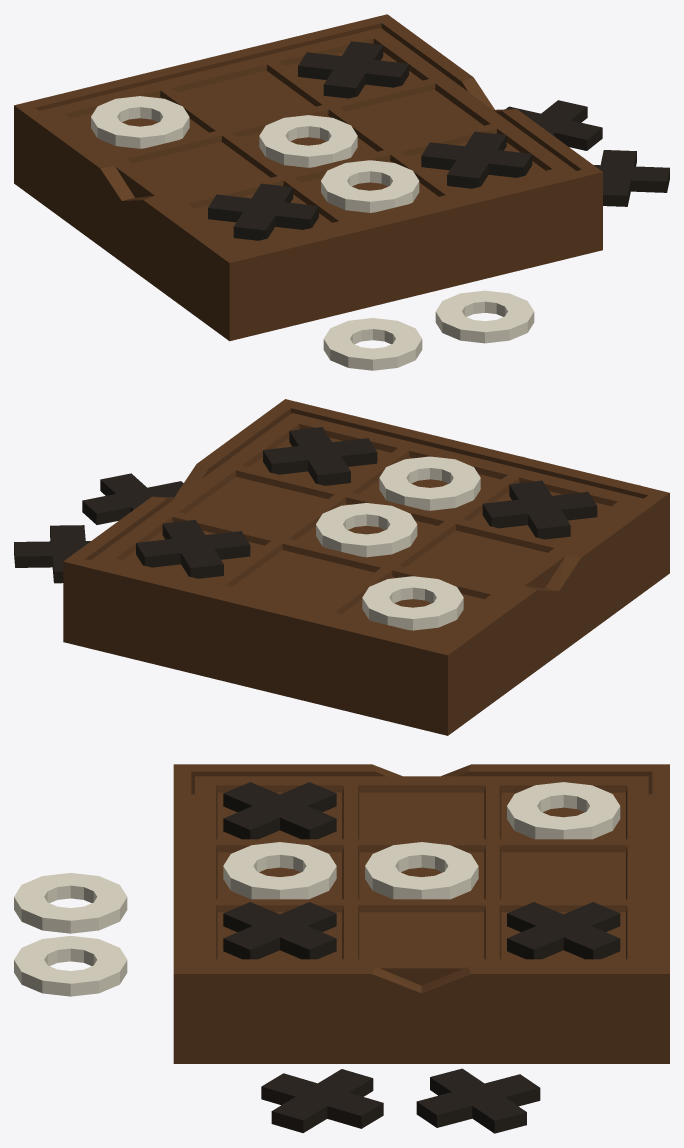
3 renders of one model, top to bottom at view 1: azimuth 30°, elevation 25°; view 2: azimuth 150°, elevation 25°; view 3: azimuth 270°, elevation 25°, orthographic. The views are drawn at different scales.
Visible parts, largest first — view 1: 01_Hollow_storage_base, 02_Removable_3x3_recess_board, O04_Ring_token, O05_Ring_token, O02_Ring_token, O03_Ring_token, O01_Ring_token, X01_Solid_cross_token, X03_Solid_cross_token, X02_Solid_cross_token, X04_Solid_cross_token, X05_Solid_cross_token; view 2: 01_Hollow_storage_base, 02_Removable_3x3_recess_board, O01_Ring_token, O03_Ring_token, O02_Ring_token, X02_Solid_cross_token, X03_Solid_cross_token, X01_Solid_cross_token, X04_Solid_cross_token, X05_Solid_cross_token; view 3: 01_Hollow_storage_base, 02_Removable_3x3_recess_board, X04_Solid_cross_token, X05_Solid_cross_token, X03_Solid_cross_token, X01_Solid_cross_token, X02_Solid_cross_token, O05_Ring_token, O04_Ring_token, O03_Ring_token, O02_Ring_token, O01_Ring_token.
Part boxes in pixels (x1,y1,x2,y2): 01_Hollow_storage_base: [14, 14, 602, 341]; 02_Removable_3x3_recess_board: [40, 27, 575, 254]; O04_Ring_token: [323, 318, 422, 370]; O05_Ring_token: [435, 290, 534, 343]; O02_Ring_token: [259, 115, 357, 167]; O03_Ring_token: [321, 160, 419, 212]; O01_Ring_token: [91, 96, 189, 148]; X01_Solid_cross_token: [298, 41, 408, 98]; X03_Solid_cross_token: [421, 131, 532, 188]; X02_Solid_cross_token: [208, 183, 318, 240]; X04_Solid_cross_token: [594, 150, 669, 206]; X05_Solid_cross_token: [506, 100, 602, 150]; 01_Hollow_storage_base: [63, 399, 669, 735]; 02_Removable_3x3_recess_board: [91, 413, 643, 645]; O01_Ring_token: [362, 576, 463, 630]; O03_Ring_token: [379, 456, 480, 510]; O02_Ring_token: [316, 503, 417, 557]; X02_Solid_cross_token: [482, 480, 597, 539]; X03_Solid_cross_token: [263, 427, 377, 485]; X01_Solid_cross_token: [136, 520, 250, 578]; X04_Solid_cross_token: [82, 473, 183, 524]; X05_Solid_cross_token: [14, 525, 90, 583]; 01_Hollow_storage_base: [173, 764, 669, 1063]; 02_Removable_3x3_recess_board: [195, 776, 648, 985]; X04_Solid_cross_token: [261, 1069, 383, 1132]; X05_Solid_cross_token: [416, 1068, 540, 1133]; X03_Solid_cross_token: [223, 902, 336, 959]; X01_Solid_cross_token: [507, 902, 620, 959]; X02_Solid_cross_token: [223, 782, 336, 839]; O05_Ring_token: [14, 936, 127, 996]; O04_Ring_token: [14, 873, 127, 933]; O03_Ring_token: [223, 842, 336, 899]; O02_Ring_token: [365, 842, 478, 899]; O01_Ring_token: [507, 782, 620, 839].
Bounding box in the file's own units: 0.1865 × 0.029 × 0.185.
